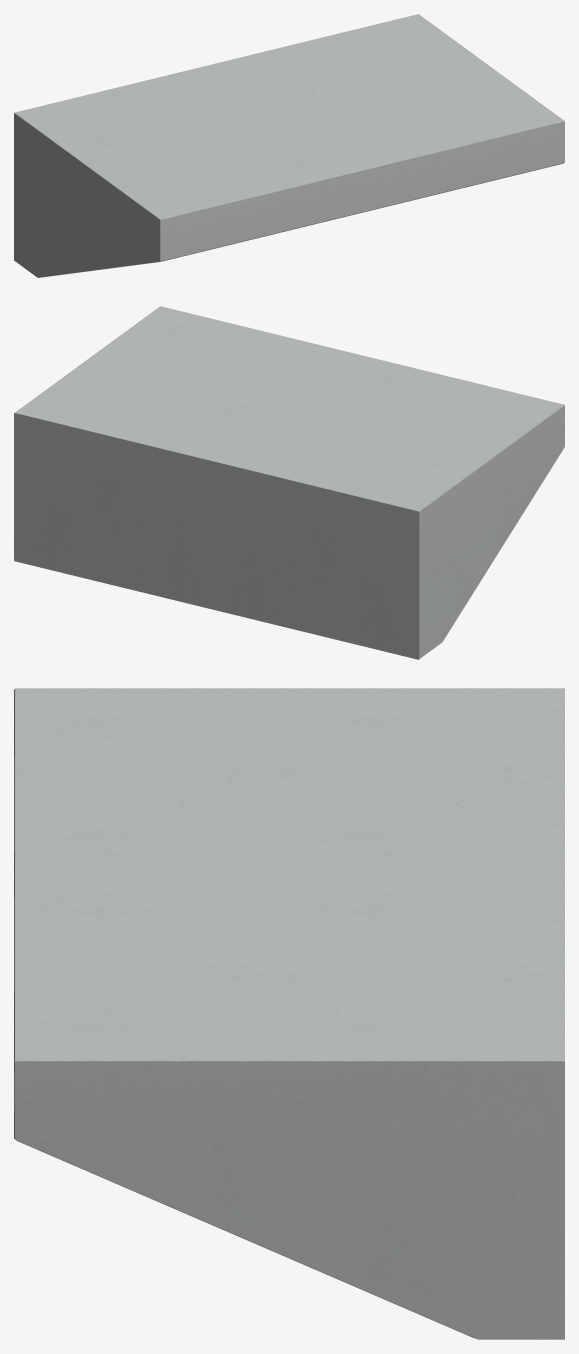
File: CookerHood_02.FBX
3 renders of one model, top to bottom at view 1: azimuth 30°, elevation 25°; view 2: azimuth 150°, elevation 25°; view 3: azimuth 270°, elevation 25°, orthographic. The views are drawn at different scales.
Visible parts, largest first — view 1: CookerHood_02; view 2: CookerHood_02; view 3: CookerHood_02.
Part boxes in pixels (x1=…): CookerHood_02: x1=14, y1=14, x2=564, y2=277; CookerHood_02: x1=14, y1=306, x2=564, y2=659; CookerHood_02: x1=14, y1=688, x2=564, y2=1339.
Bounding box in the file's own units: 200 × 70 × 125.
Materials: 1 (1 with a texture image).
